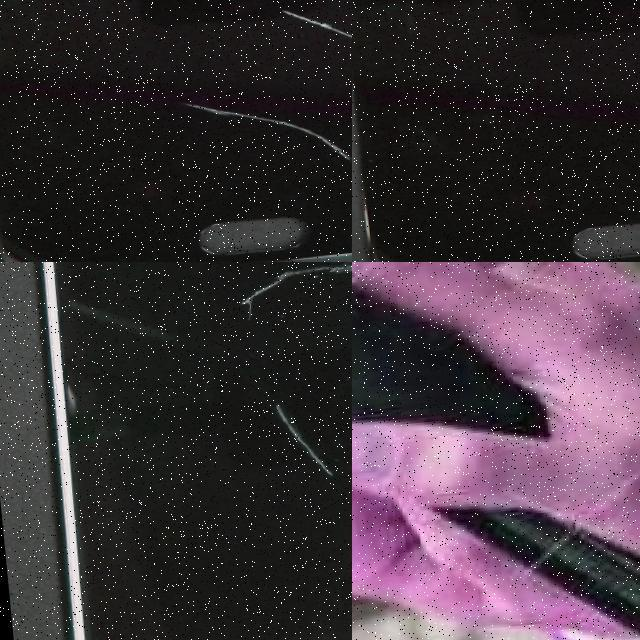scratch: (153, 87, 348, 186), (266, 0, 352, 84), (231, 265, 352, 318), (266, 403, 330, 485), (57, 374, 77, 423)
